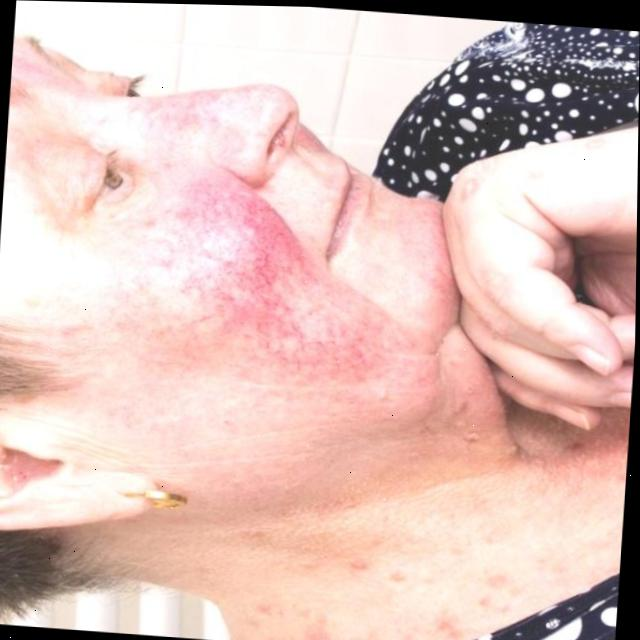Rosacea: (132, 97, 376, 411)
